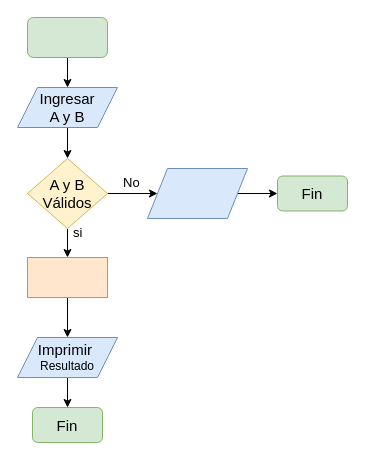
Some shapes in this 365 by 460 pixel diagram are drawn without their labels. The shapes that lost their labels are listed below. From the top down, each one's box as (x1, y1, x2, y2) in pixels, then its label:
(26, 16, 108, 58): Inicio
(146, 168, 248, 218): Imprimir Error
(26, 256, 108, 298): Sumar A + B
